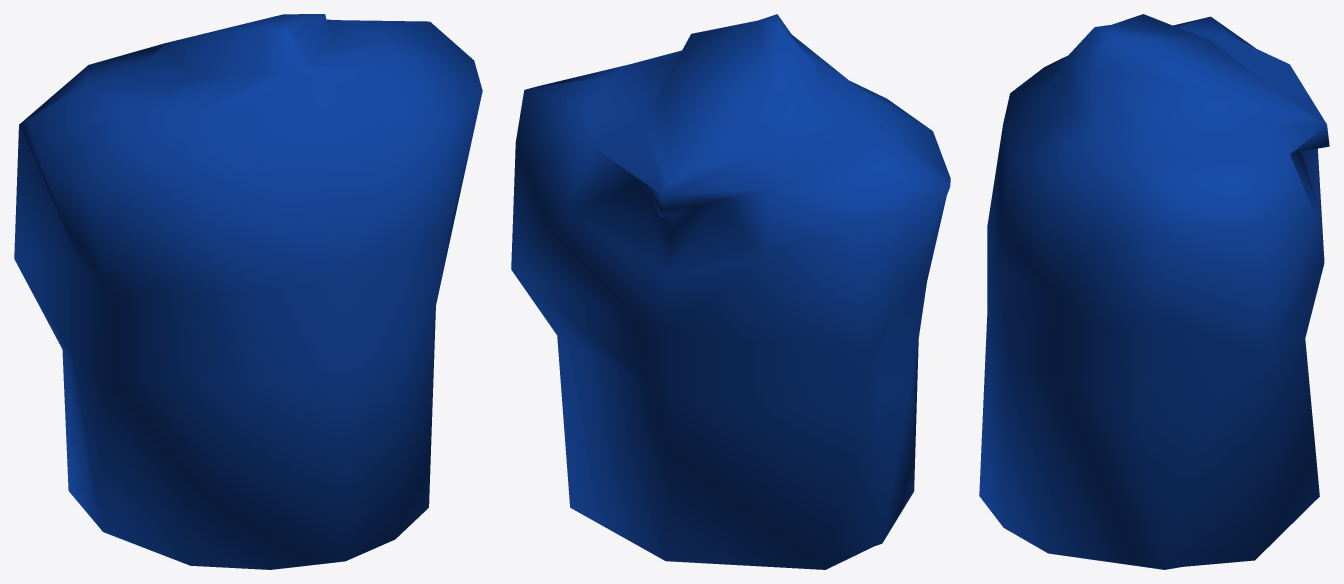
The model's file is body.obj.
3 views of the same model, side by side, from view 1: azimuth 30°, elevation 25°; view 2: azimuth 150°, elevation 25°; view 3: azimuth 270°, elevation 25° (orthographic). The views are drawn at different scales.
Parts seen in each view (by area): view 1: Wizard_Plane.002; view 2: Wizard_Plane.002; view 3: Wizard_Plane.002.
Boxes of the visible parts, x1,y1,x2,y2 form: Wizard_Plane.002: (14, 14, 482, 569); Wizard_Plane.002: (511, 14, 950, 569); Wizard_Plane.002: (979, 14, 1329, 569).
Bounding box in the file's own units: 0.5271 × 0.5771 × 0.3848.
